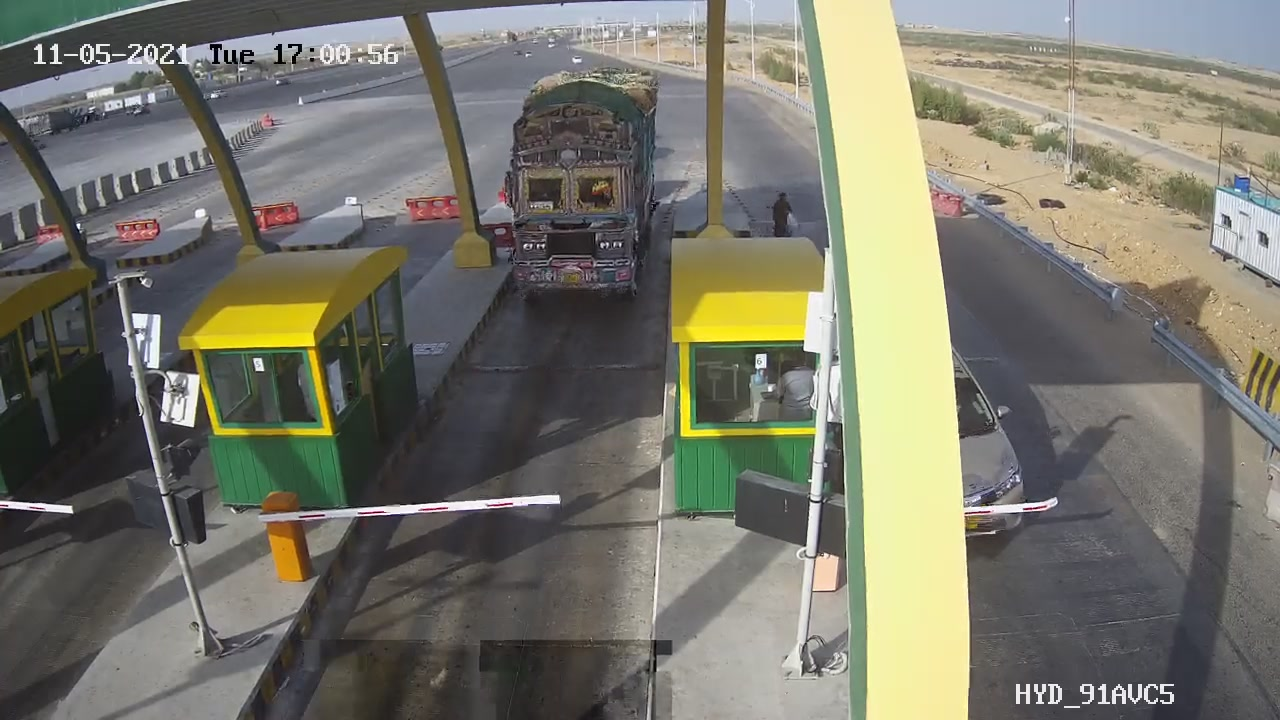F5: (495, 62, 668, 317)
